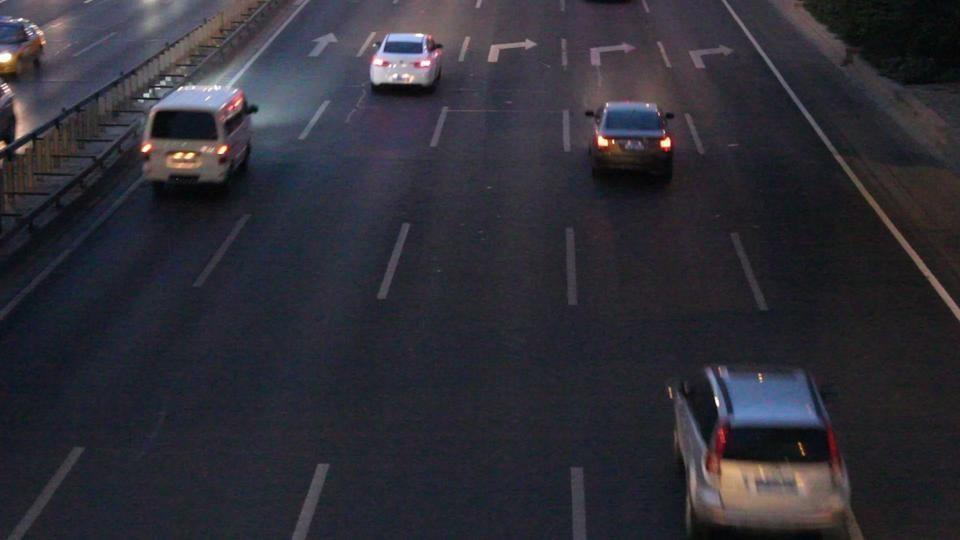car: (666, 363, 859, 538), (138, 84, 258, 197), (587, 101, 675, 183), (369, 32, 446, 93), (0, 17, 47, 76)
